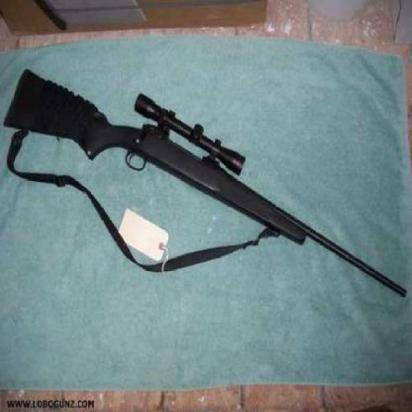Gun: (2, 50, 411, 340)
